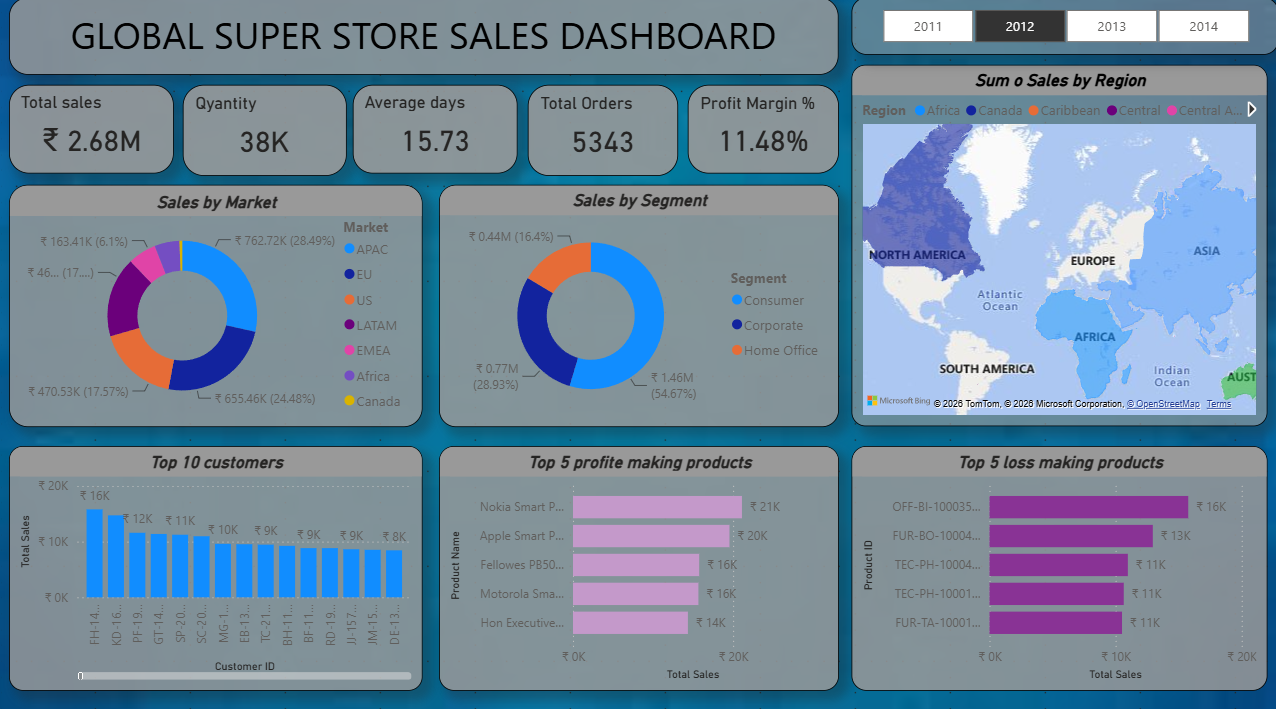

What the dashboard file says about the page in this screenshot:
{"tool":"powerbi","page":{"name":"Page 1","canvas":[1280,720],"ordinal":0},"visuals":[{"type":"textbox","box":[9.8,1.2,829.5,77.5],"z":0},{"type":"card","title":"Total sales","fields":{"Values":["Global Super store.Total Sales"]},"box":[10,88.8,165,88.8],"z":1000},{"type":"card","title":"Qyantity","fields":{"Values":["Global Super store.Total Quantity"]},"box":[183.8,88.8,163.8,91.2],"z":2000},{"type":"card","title":"Average days","fields":{"Values":["Avg(Sheet1.Order Date.Variation.Date Hierarchy.Day)"]},"box":[353.8,88.8,165,88.8],"z":3000},{"type":"donutChart","title":" Sales by Market","fields":{"Category":["Sheet1.Market"],"Y":["Global Super store.Total Sales"]},"box":[9.8,188.3,413.5,242.5],"z":4000},{"type":"donutChart","title":"Sales by Segment","fields":{"Category":["Sheet1.Segment"],"Y":["Global Super store.Total Sales"]},"box":[439.4,188.3,400,242.5],"z":5000},{"type":"filledMap","title":"Sum o Sales by Region","fields":{"Category":["Global Super store.Region"],"Series":["Global Super store.Region"]},"box":[852.9,68.9,416,361.8],"z":6000},{"type":"clusteredColumnChart","title":"Top 10 customers","fields":{"Category":["Sheet1.Customer ID"],"Y":["Global Super store.Total Sales"]},"box":[9.8,450.5,413.5,244.9],"z":7000},{"type":"clusteredBarChart","title":"Top 5 profite making products","fields":{"Category":["Sheet1.Product Name"],"Y":["Global Super store.Total Sales"]},"box":[440.6,450.5,400,244.9],"z":8000},{"type":"clusteredBarChart","title":"Top 5 loss making products","fields":{"Category":["Sheet1.Product ID"],"Y":["Global Super store.Total Sales"]},"box":[852.9,450.5,416,244.9],"z":9000},{"type":"slicer","fields":{"Values":["Sheet1.Year"]},"box":[852.9,1.2,427.1,57.8],"z":10000},{"type":"card","title":"Total Orders","fields":{"Values":["Global Super store.Total Orders"]},"box":[528.8,88.8,150,91.2],"z":11000},{"type":"card","title":"Profit Margin %","fields":{"Values":["Global Super store.Profit Margin %"]},"box":[688.8,88.8,151.2,88.8],"z":12000}]}

Visuals, with their boxes in screenshot pixels (x1, y1, x2, y2), scaled from the page's 1280x720 canvas onto the 1276x709 screenshot:
textbox: box=[10, 1, 837, 77]
"Total sales" card: box=[10, 87, 174, 175]
"Qyantity" card: box=[183, 87, 347, 177]
"Average days" card: box=[353, 87, 517, 175]
" Sales by Market" donutChart: box=[10, 185, 422, 424]
"Sales by Segment" donutChart: box=[438, 185, 837, 424]
"Sum o Sales by Region" filledMap: box=[850, 68, 1265, 424]
"Top 10 customers" clusteredColumnChart: box=[10, 444, 422, 685]
"Top 5 profite making products" clusteredBarChart: box=[439, 444, 838, 685]
"Top 5 loss making products" clusteredBarChart: box=[850, 444, 1265, 685]
slicer - Sheet1.Year: box=[850, 1, 1275, 58]
"Total Orders" card: box=[527, 87, 677, 177]
"Profit Margin %" card: box=[687, 87, 837, 175]
